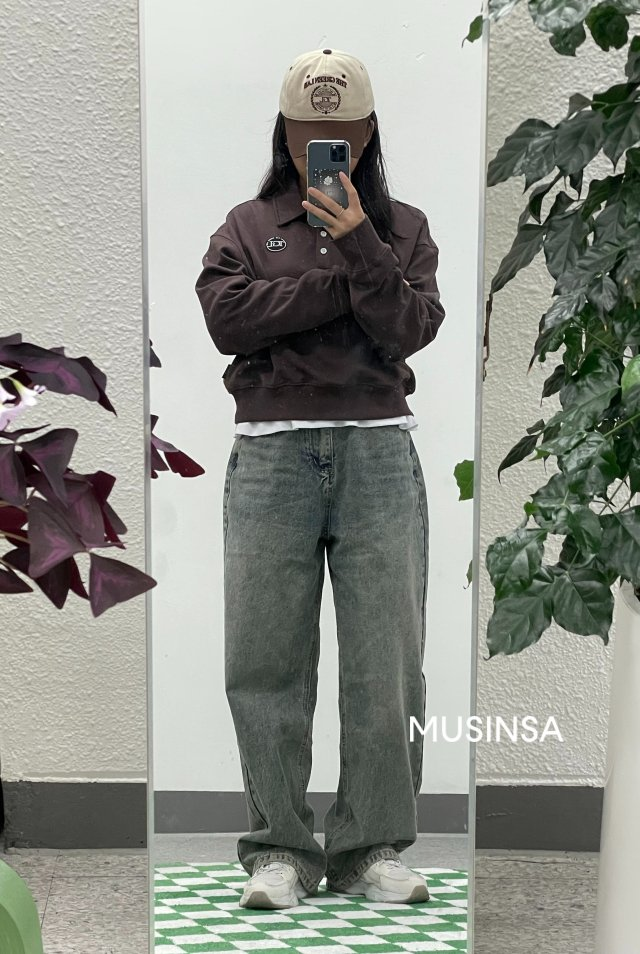Cap: (282, 50, 374, 162)
Jeans: (212, 416, 426, 871)
Shoes: (237, 849, 436, 914)
Top: (196, 180, 448, 424)
